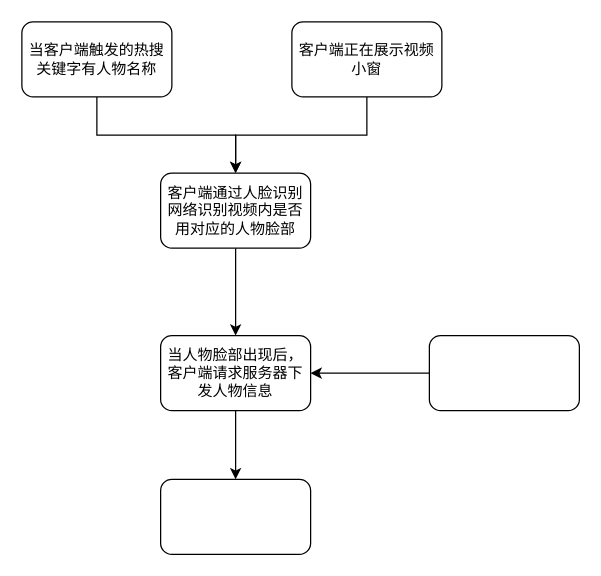
Image size: 601x576. Some labels were removed from this diagram. Here are the shapes that lost their labels. From the top down, the centre of each, then its label:
At point 503,372: "wiki或百度知道等信息网站爬取，对应的人物信息".
At point 235,516: "客户端接收到人物信息后，在视频小窗下方会展示对应的人物的信息小窗".
